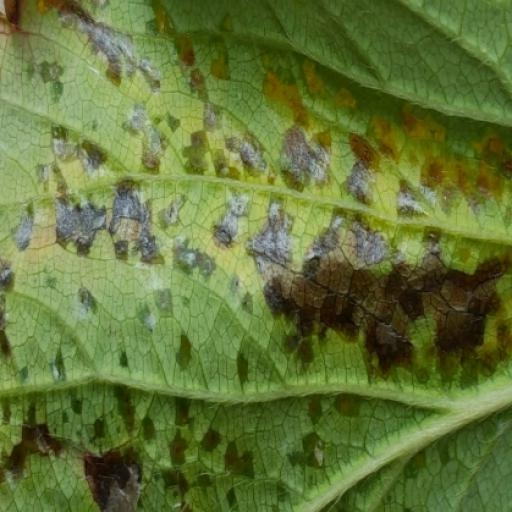Angular Leafspot: (0, 0, 511, 511)
